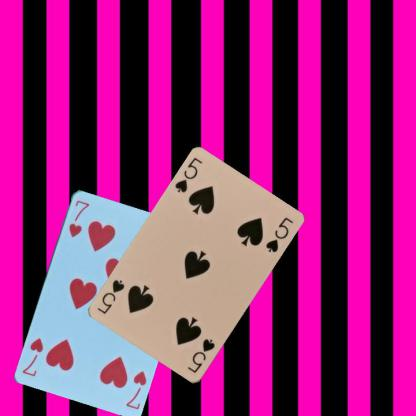5s: (172, 155, 204, 195), (185, 336, 216, 375)
7h: (66, 197, 90, 239), (123, 368, 147, 410)
